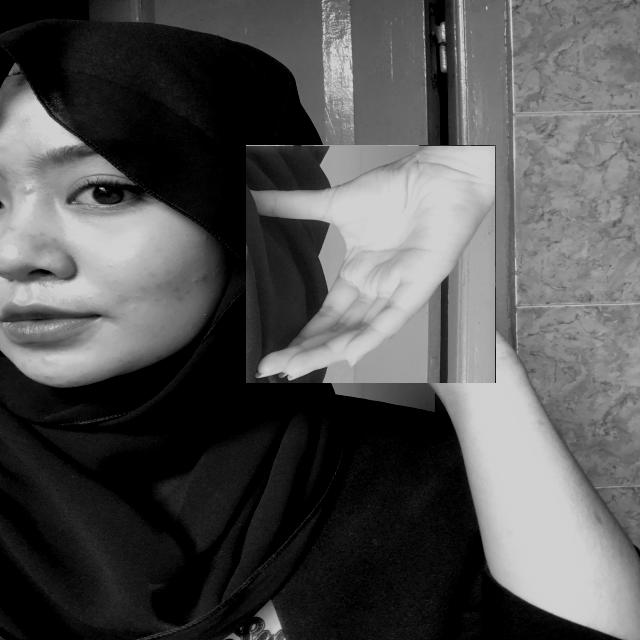mendengar: (246, 145, 496, 383)
